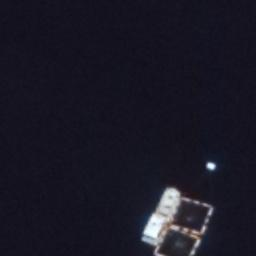square_solid: (167, 193, 216, 239), (152, 224, 203, 256)
